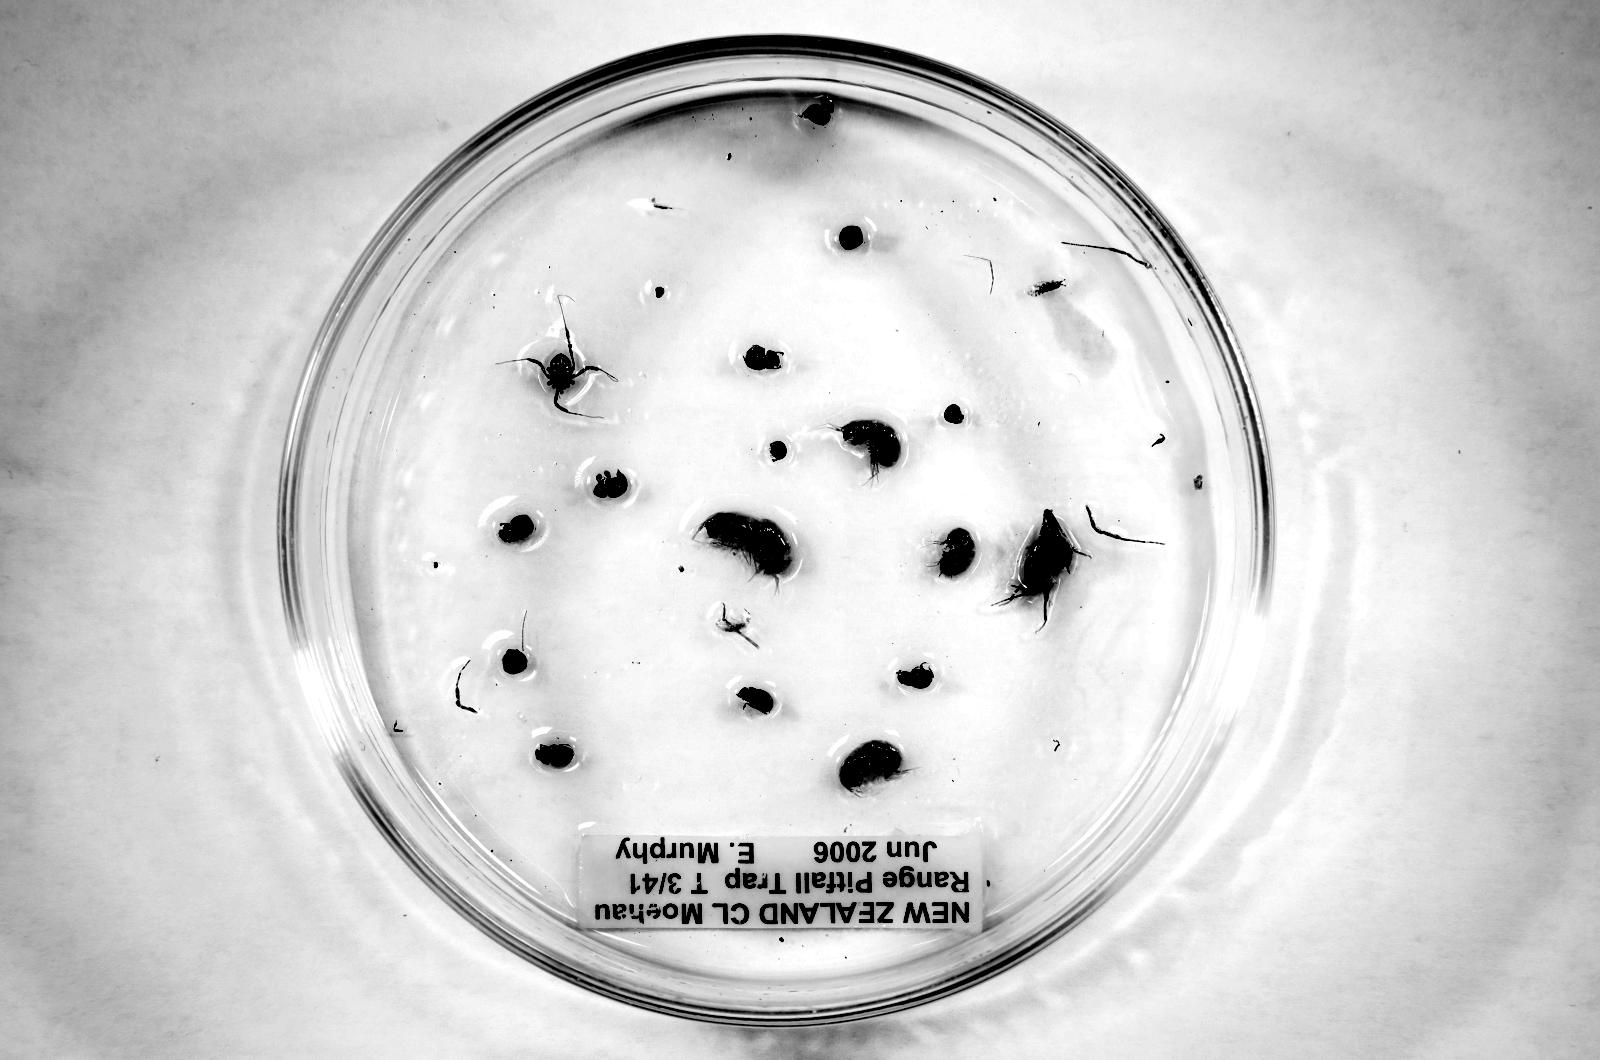amphipoda: (694, 511, 792, 593), (837, 420, 901, 481), (840, 739, 903, 793), (938, 528, 976, 577)
coleoptera: (498, 513, 536, 543), (736, 686, 775, 715), (535, 742, 575, 768), (592, 471, 629, 499), (744, 345, 784, 370), (896, 662, 934, 689)
opiliones: (514, 318, 616, 418)
orthoptera: (996, 510, 1084, 629)
